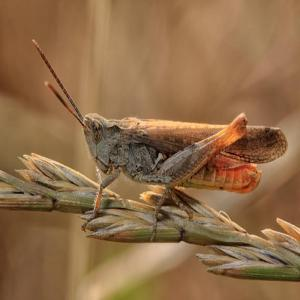locust: (49, 85, 291, 211)
